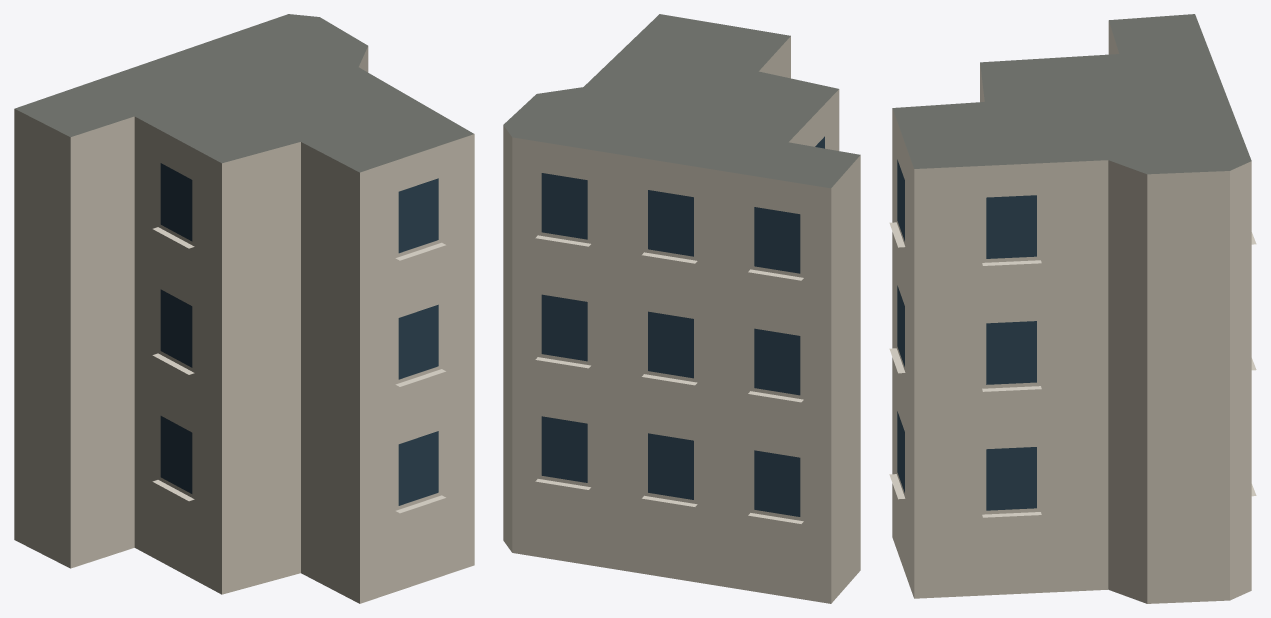
3 renders of one model, left to right at view 1: azimuth 30°, elevation 25°; view 2: azimuth 150°, elevation 25°; view 3: azimuth 270°, elevation 25°, orthographic. The views are drawn at different scales.
Parts seen in each view (by area): view 1: Footprint 0, Inferred window bays, Window sills; view 2: Footprint 0, Inferred window bays, Window sills; view 3: Footprint 0, Inferred window bays, Window sills.
Part boxes in pixels (left/top/right/bottom): Footprint 0: left=14, top=14, right=474, bottom=603; Inferred window bays: left=160, top=163, right=438, bottom=505; Window sills: left=152, top=227, right=445, bottom=513; Footprint 0: left=503, top=14, right=860, bottom=603; Inferred window bays: left=541, top=136, right=824, bottom=516; Window sills: left=535, top=235, right=803, bottom=523; Footprint 0: left=892, top=14, right=1251, bottom=603; Inferred window bays: left=897, top=159, right=1036, bottom=510; Window sills: left=889, top=222, right=1256, bottom=517.
Size of the model in its own units: 9.23 by 11.53 by 8.93.
